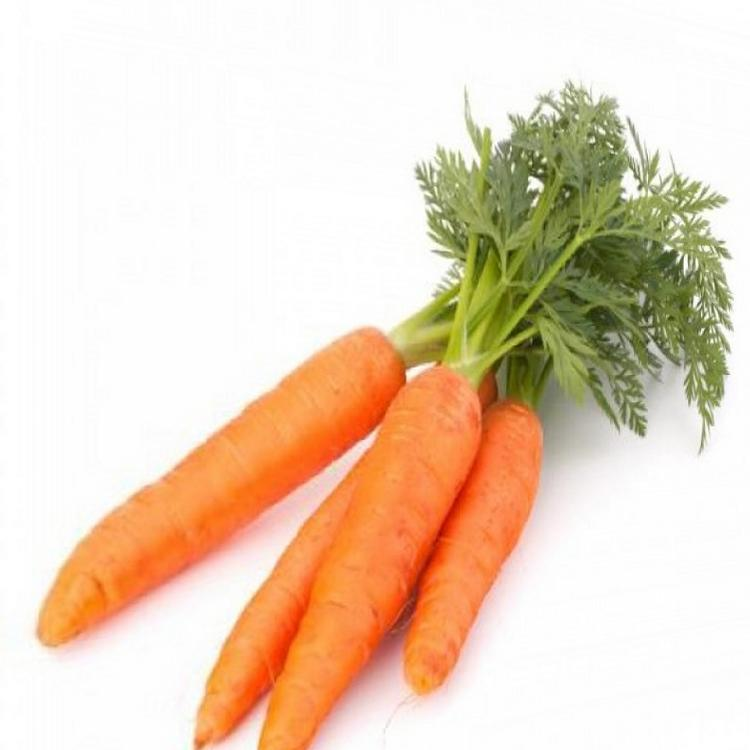carrot: (36, 342, 553, 657), (407, 84, 726, 561), (386, 330, 544, 711)
